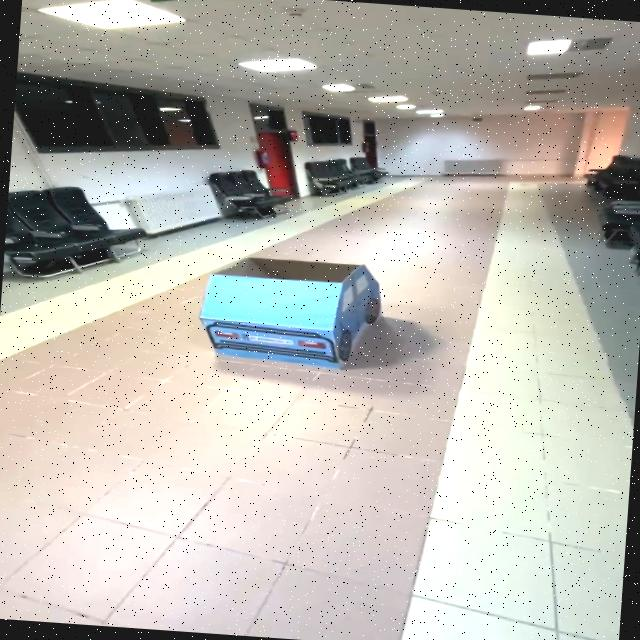blue_car: (174, 237, 425, 385)
